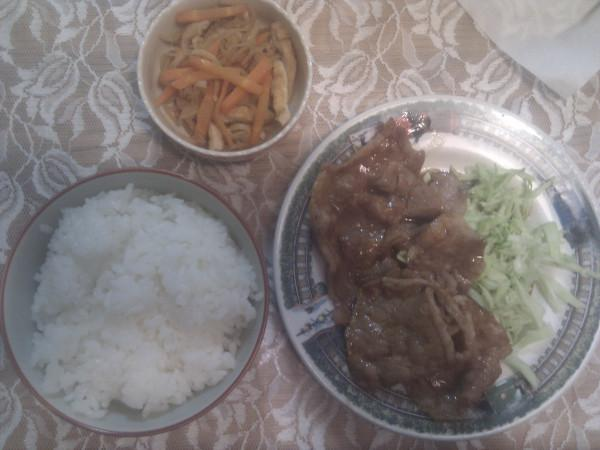plate: (265, 95, 599, 439)
rice: (31, 187, 261, 415)
